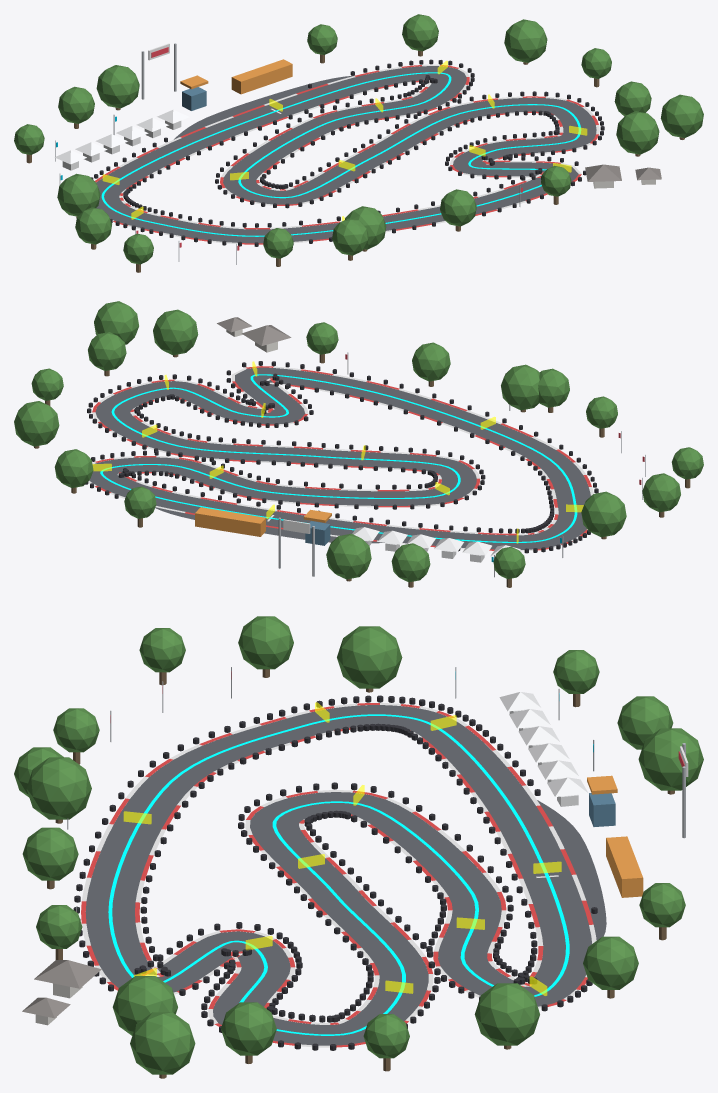
Rendered from kart_circuit.glb.
The picture shows the model from 3 angles, top to bottom: view 1: azimuth 30°, elevation 25°; view 2: azimuth 150°, elevation 25°; view 3: azimuth 270°, elevation 25°; orthographic projection. The views are drawn at different scales.
Parts seen in each view (by area): view 1: Asphalt, TireBarrier, Kerb, RacingLine, PitLane, Tree_Crown_11, Tree_Crown_17, Tree_Crown_5, Tree_Crown_8, Tree_Crown_2, PitBuilding, Tree_Crown_13 (+14 smaller); view 2: Asphalt, TireBarrier, Kerb, RacingLine, Tree_Crown_2, Tree_Crown_5, Tree_Crown_8, Tree_Crown_11, Tree_Crown_14, PitBuilding, Tree_Crown_17, Tree_Crown_7 (+14 smaller); view 3: Asphalt, TireBarrier, Kerb, RacingLine, PitLane, Tree_Crown_14, Tree_Crown_17, Tree_Crown_2, Tree_Crown_8, Tree_Crown_5, Tree_Crown_11, Tree_Crown_13 (+14 smaller).
Boxes of the visible parts, bbox=[...] form: Asphalt: bbox=[96, 66, 596, 243]; TireBarrier: bbox=[91, 59, 604, 246]; Kerb: bbox=[95, 64, 599, 244]; RacingLine: bbox=[101, 72, 580, 236]; PitLane: bbox=[164, 74, 387, 152]; Tree_Crown_11: bbox=[616, 111, 659, 154]; Tree_Crown_17: bbox=[660, 94, 703, 138]; Tree_Crown_5: bbox=[96, 65, 139, 108]; Tree_Crown_8: bbox=[504, 19, 547, 62]; Tree_Crown_2: bbox=[57, 173, 100, 216]; PitBuilding: bbox=[231, 59, 292, 94]; Tree_Crown_13: bbox=[440, 189, 476, 226]; Asphalt: bbox=[89, 367, 590, 549]; TireBarrier: bbox=[85, 361, 598, 553]; Kerb: bbox=[88, 366, 593, 551]; RacingLine: bbox=[100, 374, 577, 542]; Tree_Crown_2: bbox=[581, 491, 626, 537]; Tree_Crown_5: bbox=[326, 533, 371, 579]; Tree_Crown_8: bbox=[14, 401, 59, 446]; Tree_Crown_11: bbox=[153, 309, 198, 355]; Tree_Crown_14: bbox=[501, 364, 539, 410]; PitBuilding: bbox=[195, 507, 265, 536]; Tree_Crown_17: bbox=[94, 301, 138, 344]; Tree_Crown_7: bbox=[54, 449, 93, 488]; Asphalt: bbox=[85, 705, 586, 1045]; TireBarrier: bbox=[73, 695, 597, 1050]; Kerb: bbox=[81, 703, 596, 1047]; RacingLine: bbox=[108, 714, 569, 1035]; PitLane: bbox=[489, 788, 606, 962]; Tree_Crown_14: bbox=[26, 757, 91, 819]; Tree_Crown_17: bbox=[130, 1012, 195, 1074]; Tree_Crown_2: bbox=[337, 626, 402, 688]; Tree_Crown_8: bbox=[474, 983, 539, 1045]; Tree_Crown_5: bbox=[638, 728, 703, 790]; Tree_Crown_11: bbox=[112, 976, 177, 1035]; Tree_Crown_13: bbox=[22, 827, 78, 880].
Size of what is drawn, in the model's own units: 117 by 9.1 by 80.05.
